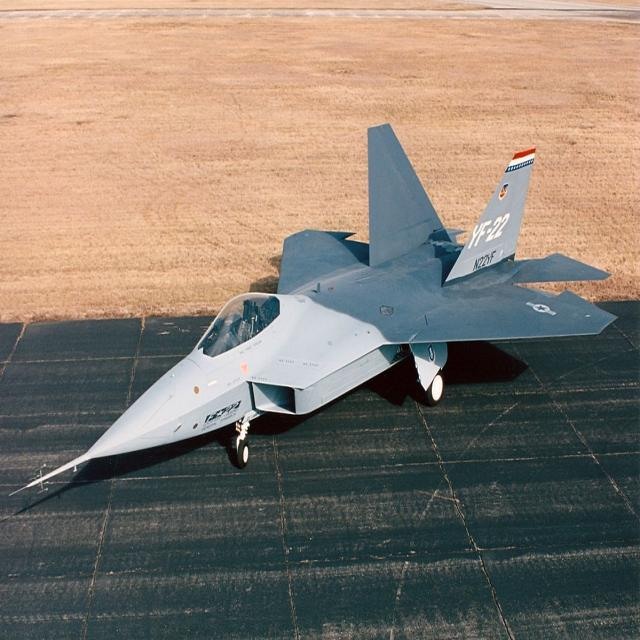F22: (0, 74, 620, 517)
